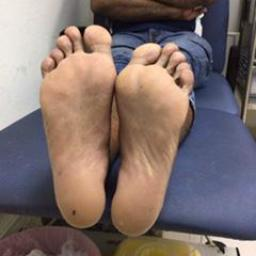Plantar View -Both Feet-: (36, 20, 200, 239)
